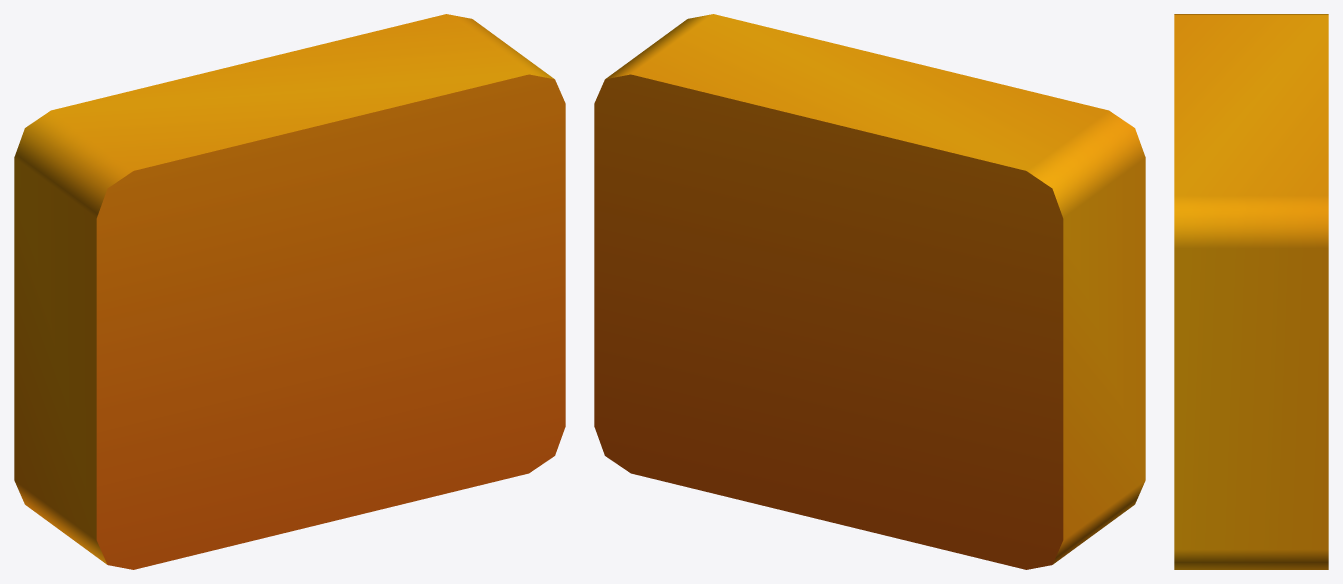
The model's file is Cheddar_Cheese_Slice.glb.
3 renders of one model, left to right at view 1: azimuth 30°, elevation 25°; view 2: azimuth 150°, elevation 25°; view 3: azimuth 270°, elevation 25°, orthographic. The views are drawn at different scales.
Parts seen in each view (by area): view 1: Cheddar_Cheese_Slice; view 2: Cheddar_Cheese_Slice; view 3: Cheddar_Cheese_Slice.
Part boxes in pixels (x1,y1,x2,y2): Cheddar_Cheese_Slice: (14,14,565,569); Cheddar_Cheese_Slice: (594,14,1145,569); Cheddar_Cheese_Slice: (1174,14,1328,569).
Size of the model in its own units: 0.2443 by 0.1986 by 0.0745.
1 material, 1 textured.
